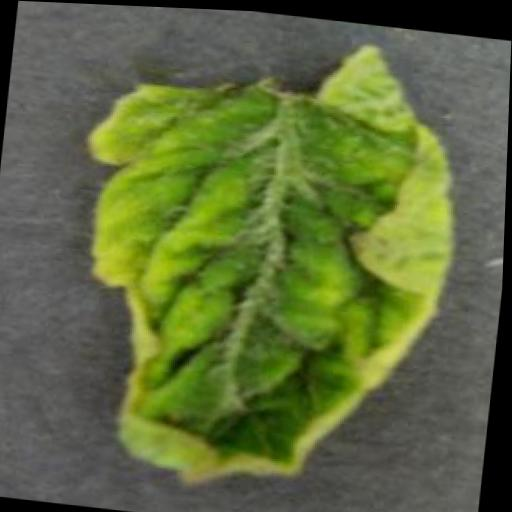Yellow Leaf Curl Virus: (50, 10, 475, 511)
